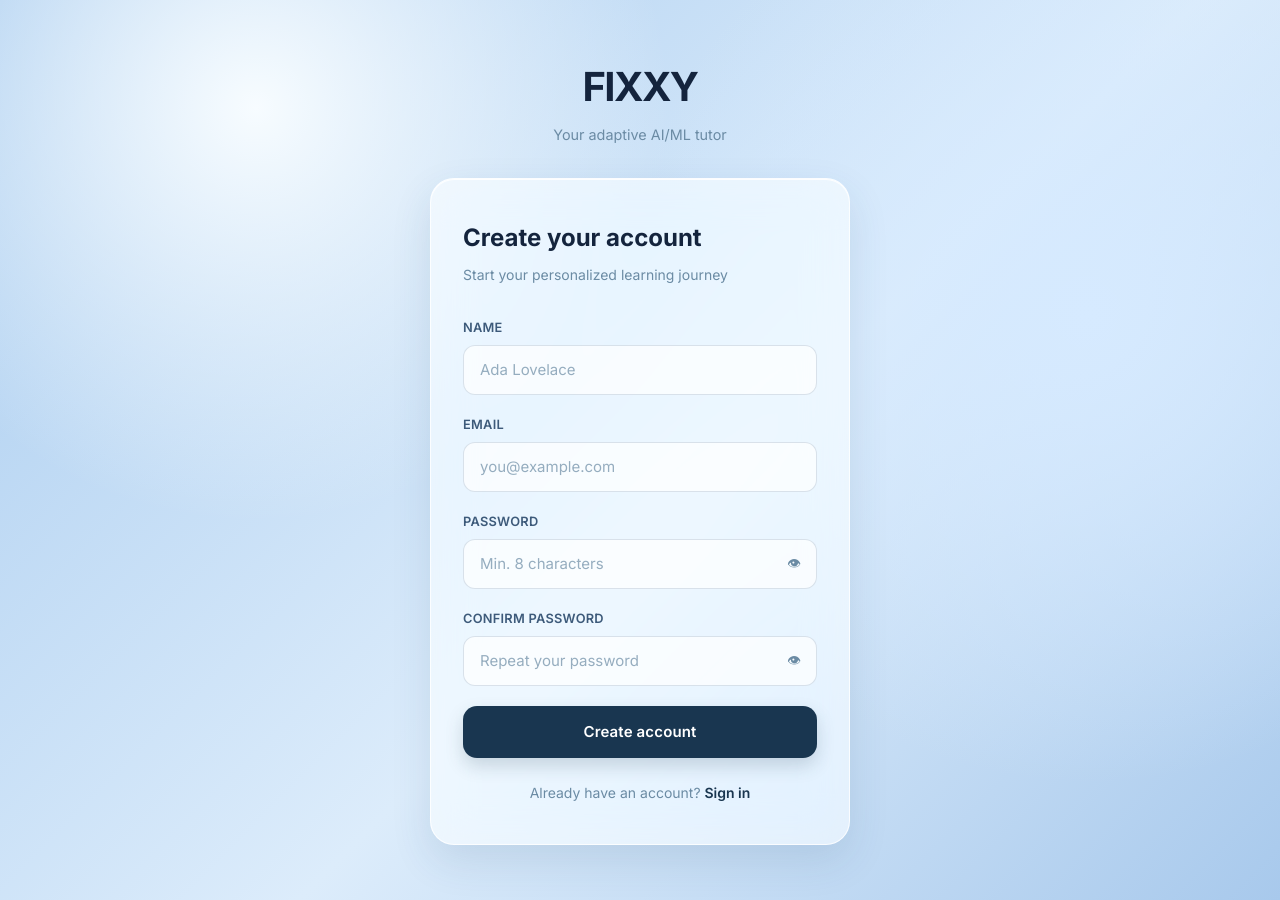
Test case: RegisterPage › shows validation error when passwords do not match
The image size is (1280, 900).
Step 1. Type "Test User" into the field labelled "Name" → {"x": 640, "y": 370}, box [463,345,817,395]
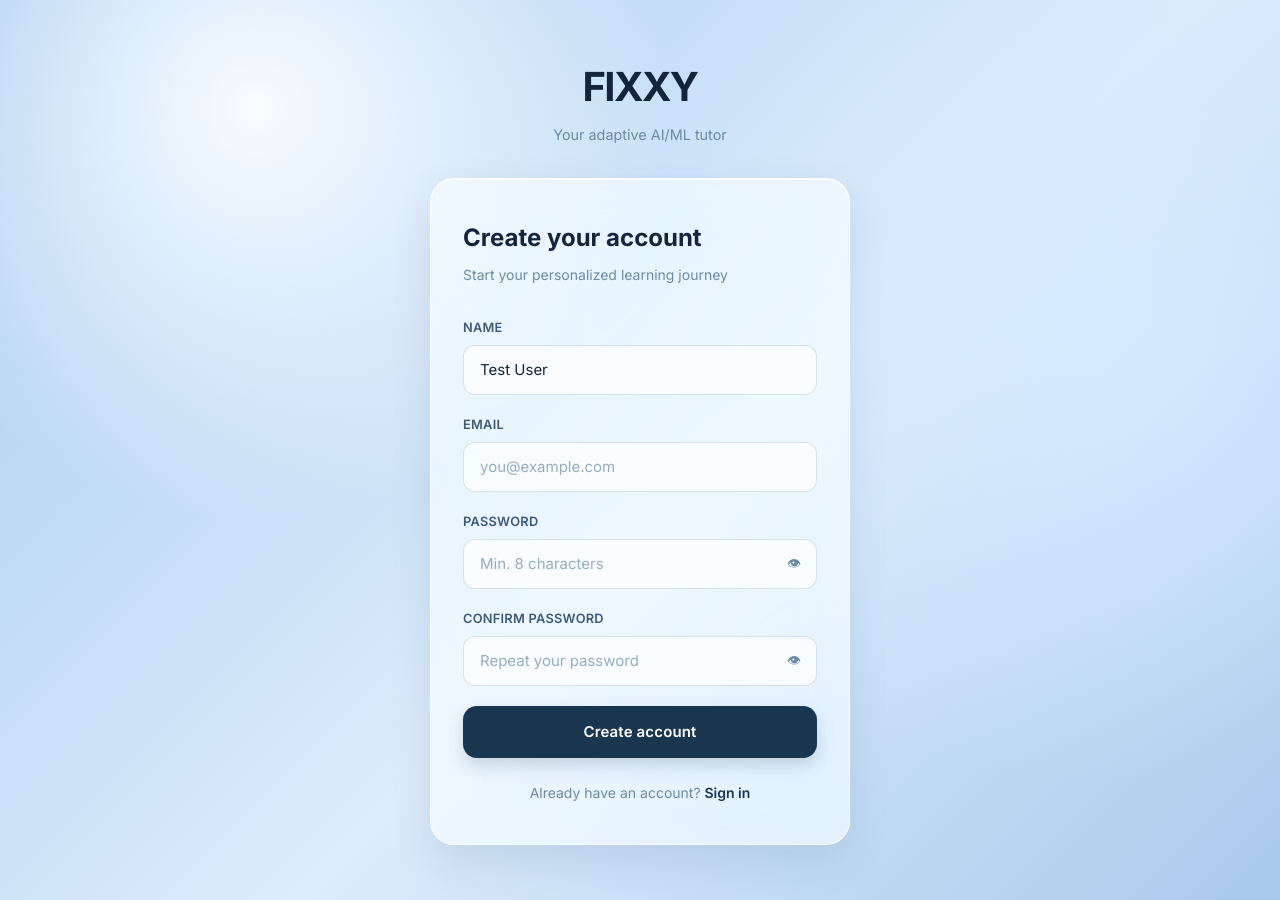
Step 2. Type "test@example.com" into the field labelled "Email" → {"x": 640, "y": 467}, box [463,442,817,492]
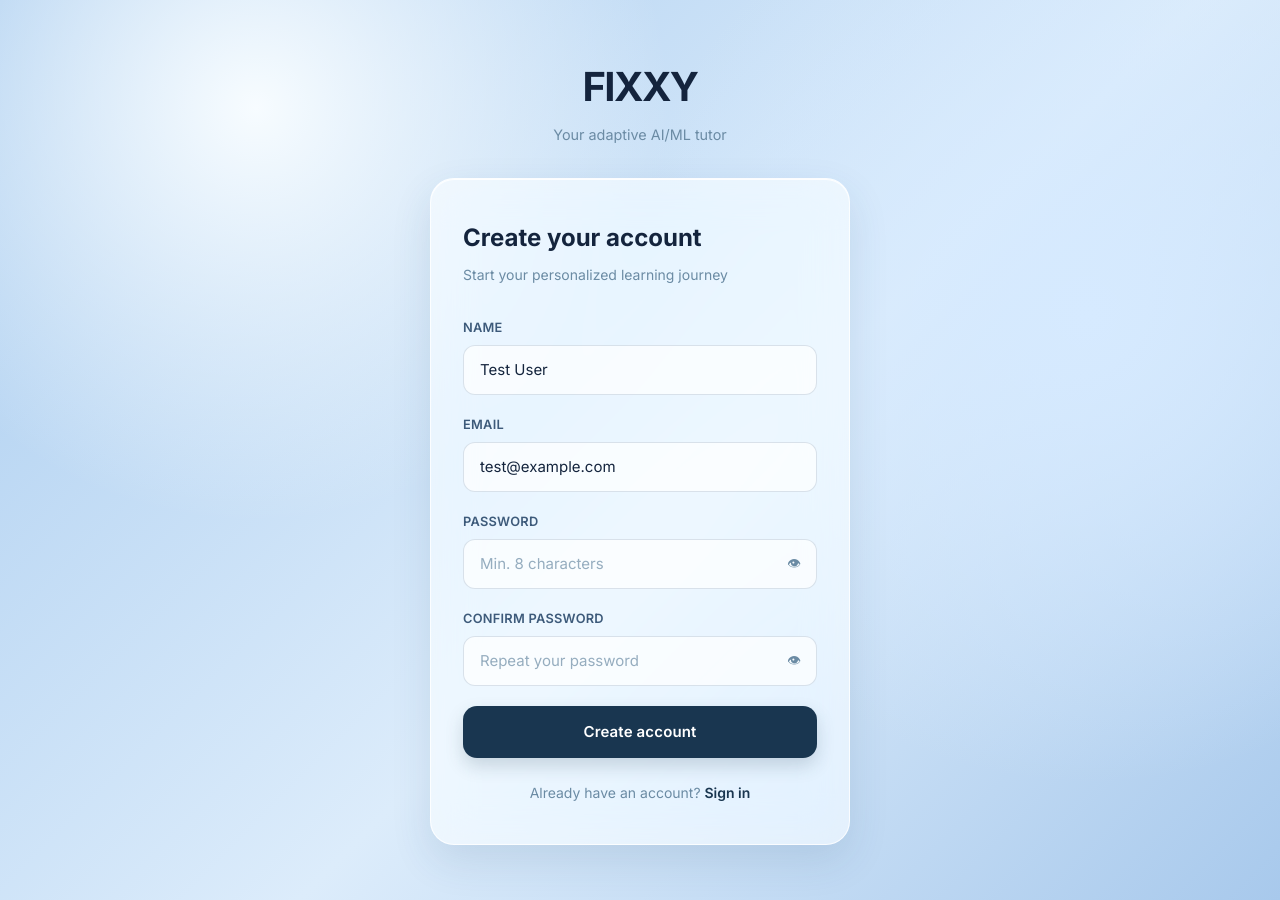
Step 3. Type "Password123" into the password field labelled "Password" → {"x": 640, "y": 564}, box [463,539,817,589]
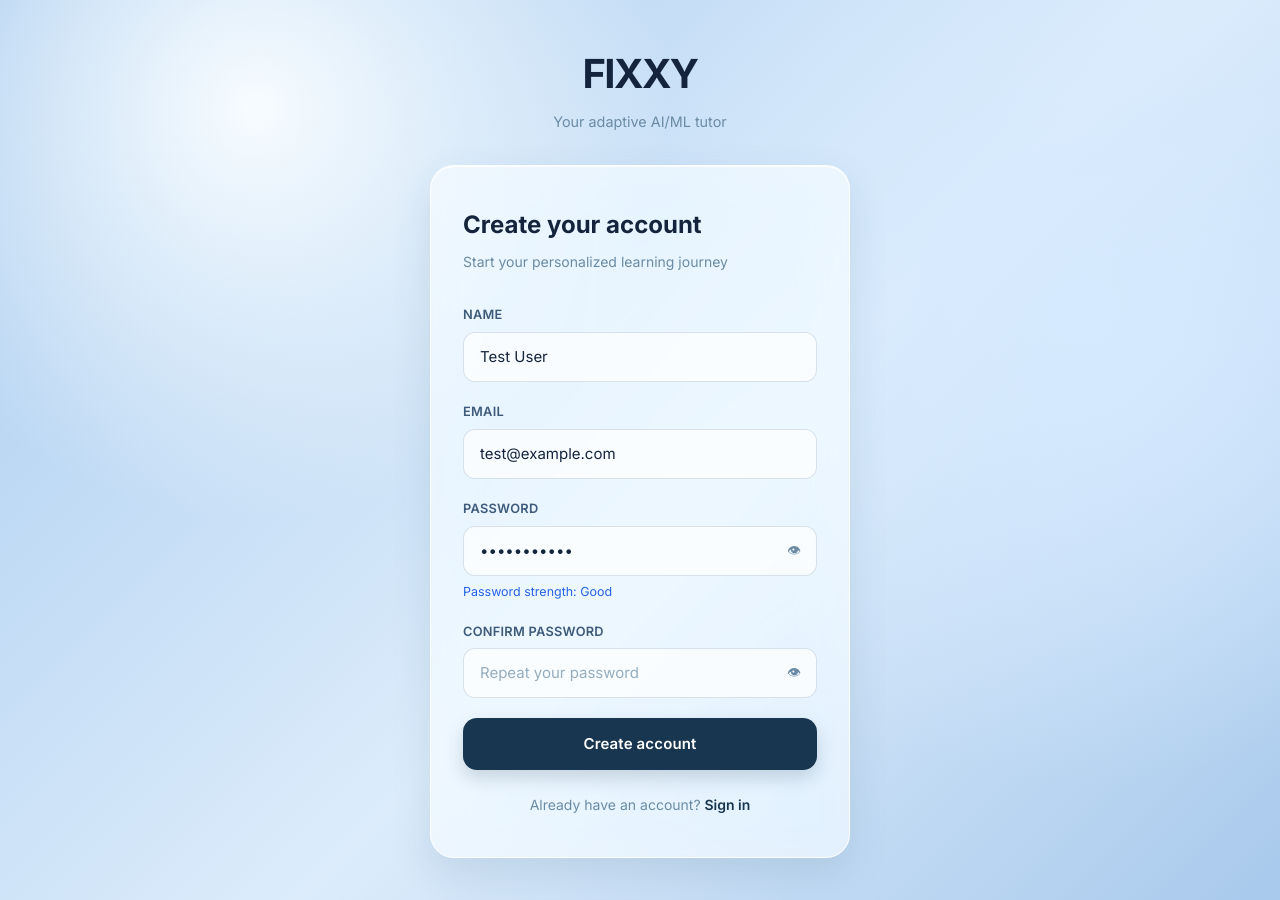
Step 4. Type "DifferentPass1" into the password field with id "register-confirm" → {"x": 640, "y": 673}, box [463,648,817,698]
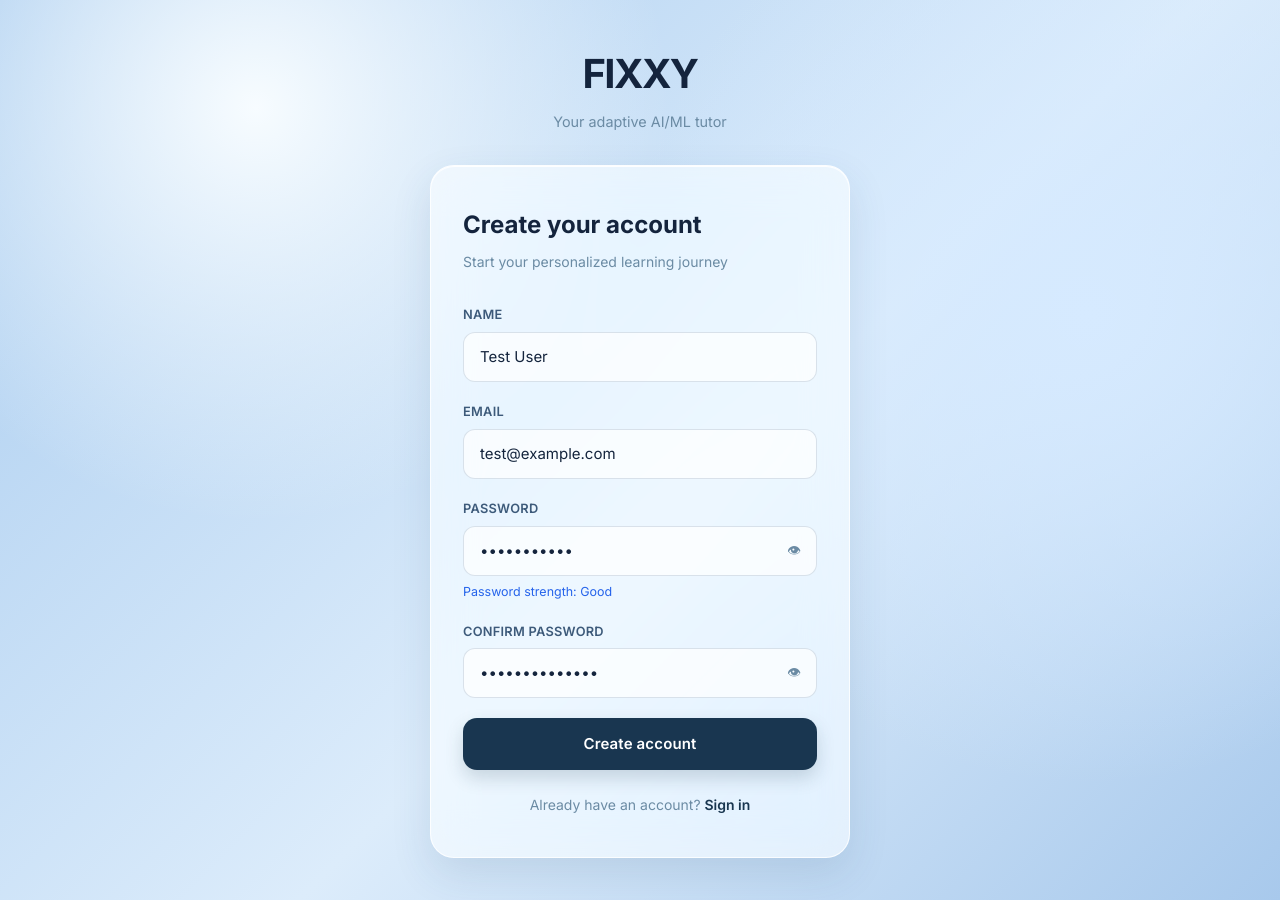
Step 5. Click the button with id "register-submit" → {"x": 640, "y": 744}, box [463,718,817,770]
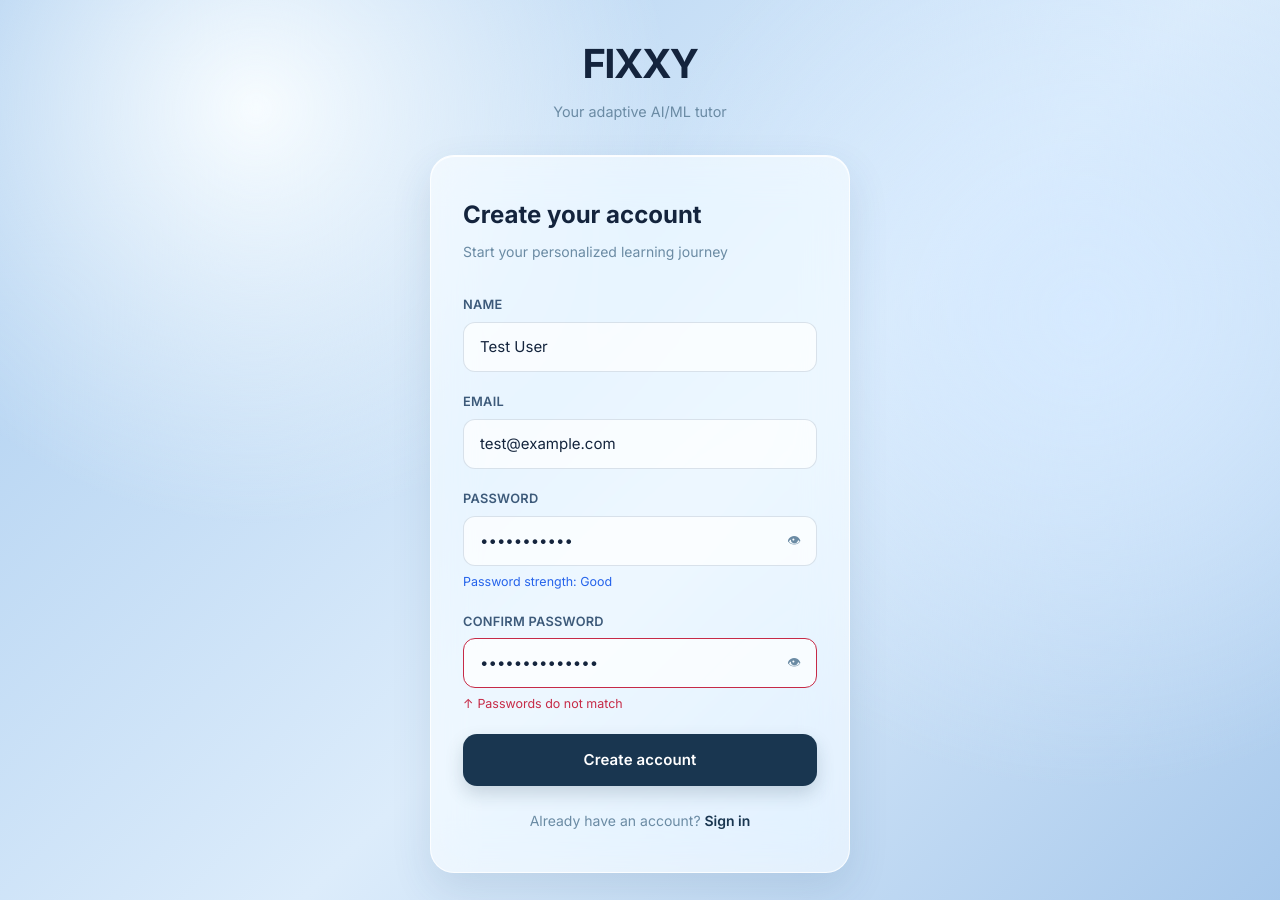
Result: the text "↑ Passwords do not match" is shown at [463,696,623,711]
